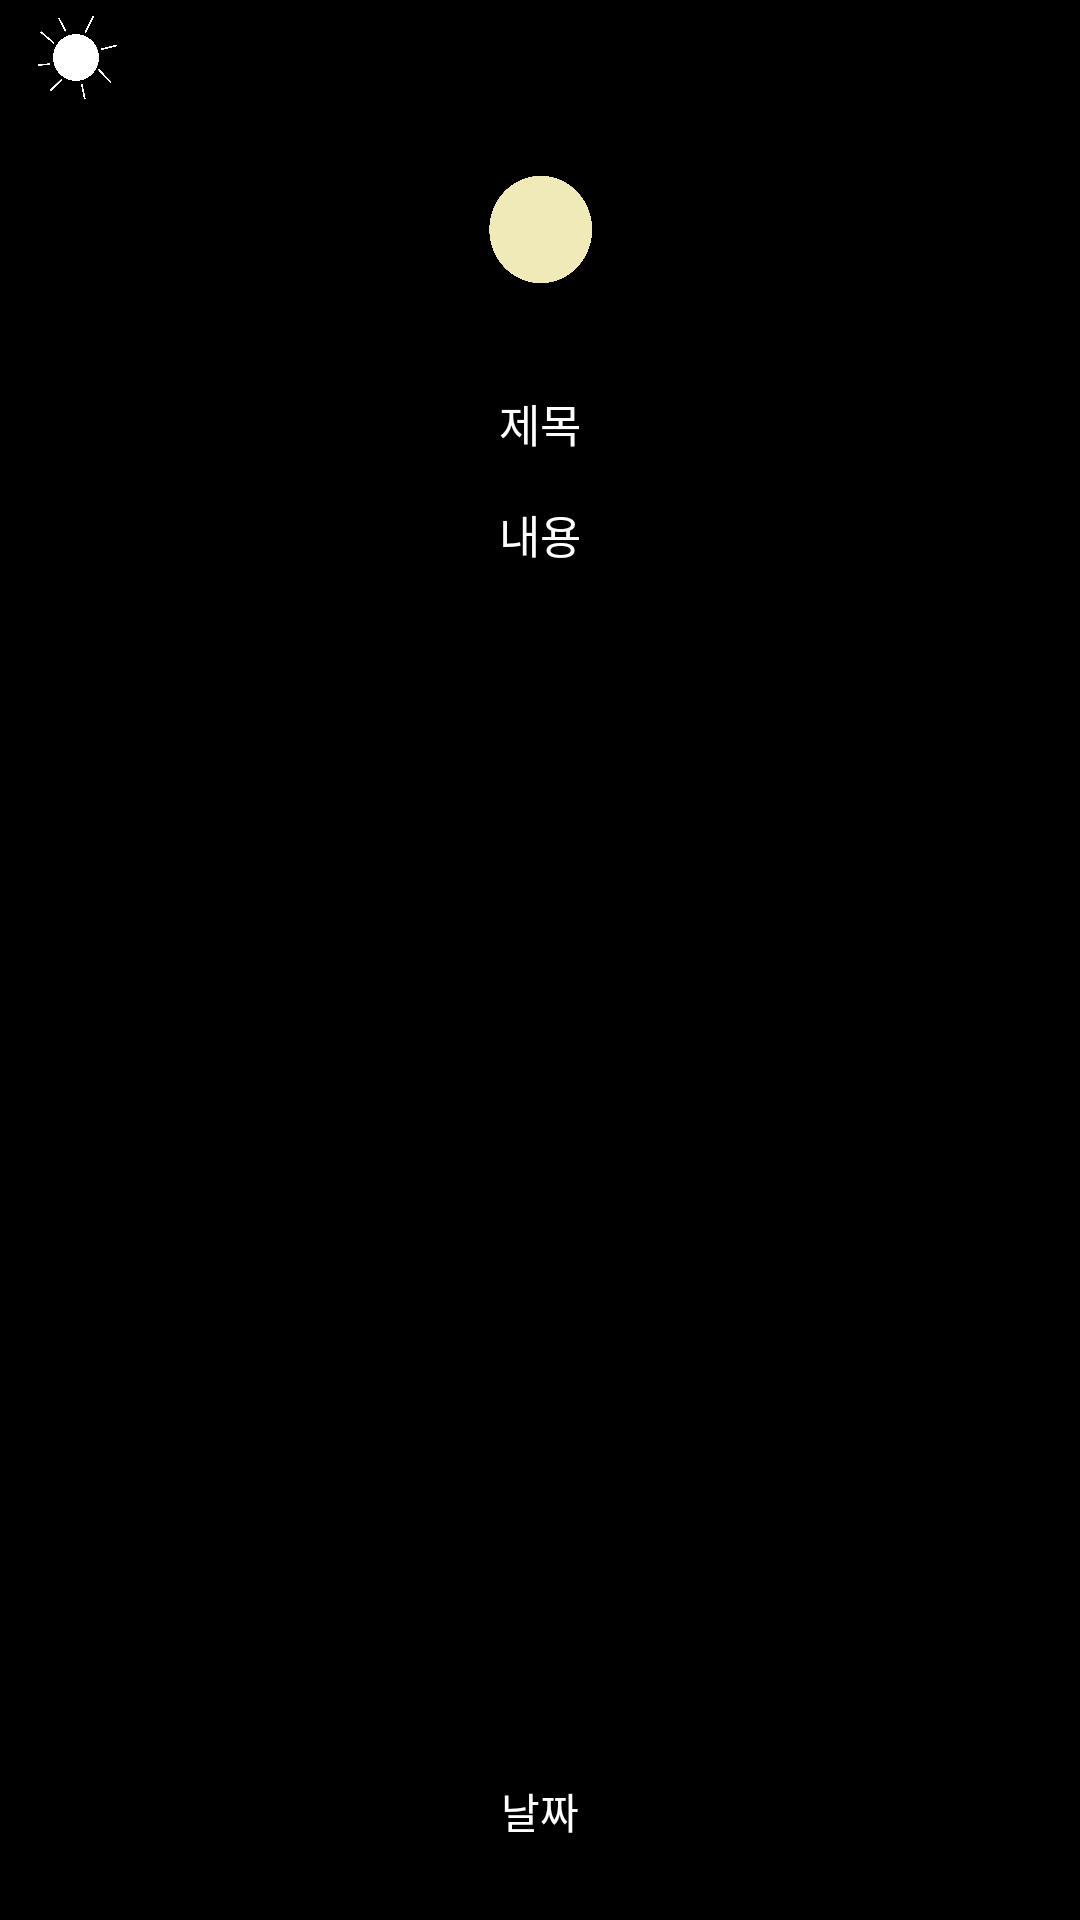

Named icons in this screenshot (1080×1920) and their bounding boxes, box(x1, y1, x2, y2):
sunny: box(38, 16, 117, 100)
